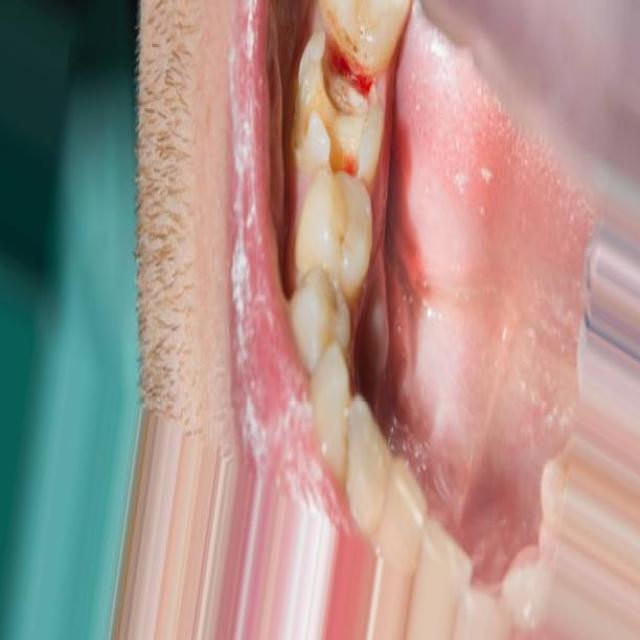caries: (303, 15, 378, 124), (311, 122, 371, 202)
